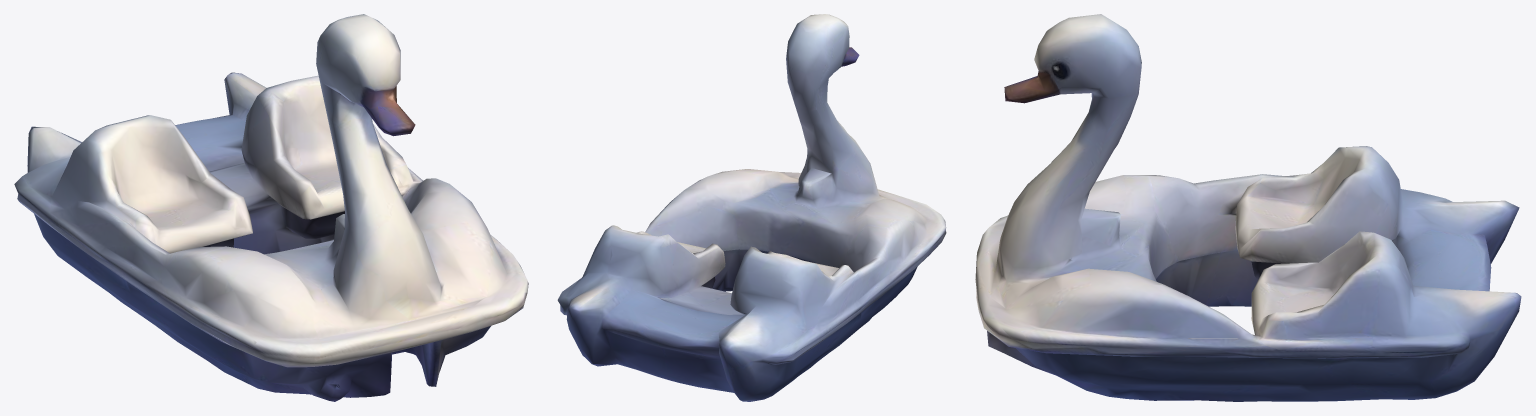
The model's file is pedalinho.glb.
3 views of the same model, side by side, from view 1: azimuth 30°, elevation 25°; view 2: azimuth 150°, elevation 25°; view 3: azimuth 270°, elevation 25° (orthographic). The views are drawn at different scales.
Visible parts, largest first — view 1: tripo_node_98b3ef53-0557-4f4c-83ef-3c930d9da089; view 2: tripo_node_98b3ef53-0557-4f4c-83ef-3c930d9da089; view 3: tripo_node_98b3ef53-0557-4f4c-83ef-3c930d9da089.
Boxes of the visible parts, <box> form: tripo_node_98b3ef53-0557-4f4c-83ef-3c930d9da089: <box>14,14,528,401</box>; tripo_node_98b3ef53-0557-4f4c-83ef-3c930d9da089: <box>557,14,946,401</box>; tripo_node_98b3ef53-0557-4f4c-83ef-3c930d9da089: <box>975,14,1521,401</box>.
Size of the model in its own units: 0.6387 by 0.6748 by 1.
1 material, 1 textured.
